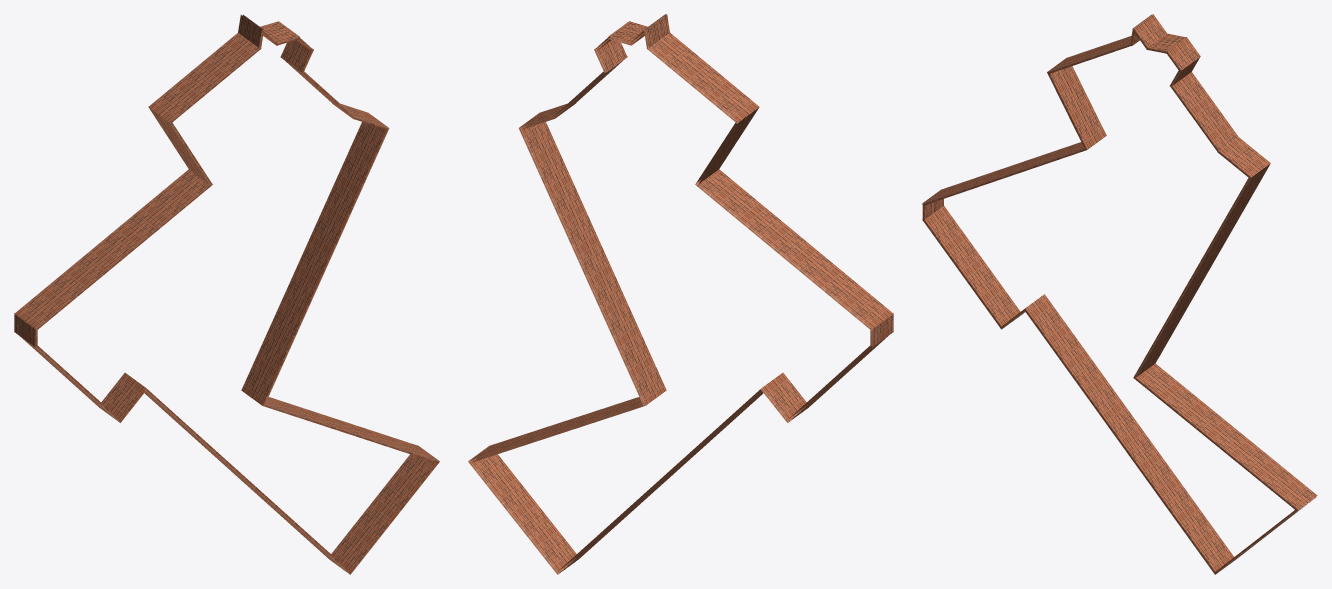
Rendered from indoor_clean_less_dense_muros.obj.
3 views of the same model, side by side, from view 1: azimuth 30°, elevation 25°; view 2: azimuth 150°, elevation 25°; view 3: azimuth 330°, elevation 25° (orthographic). The views are drawn at different scales.
Bounding box in the file's own units: 27.68 × 37.04 × 2.5.
Materials: 1 (1 with a texture image).
